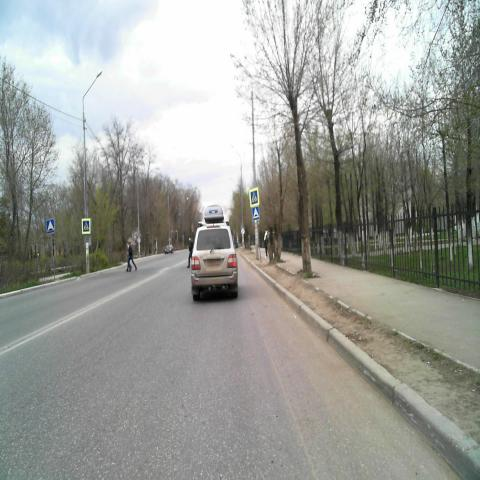5_20: (252, 206, 260, 219)
